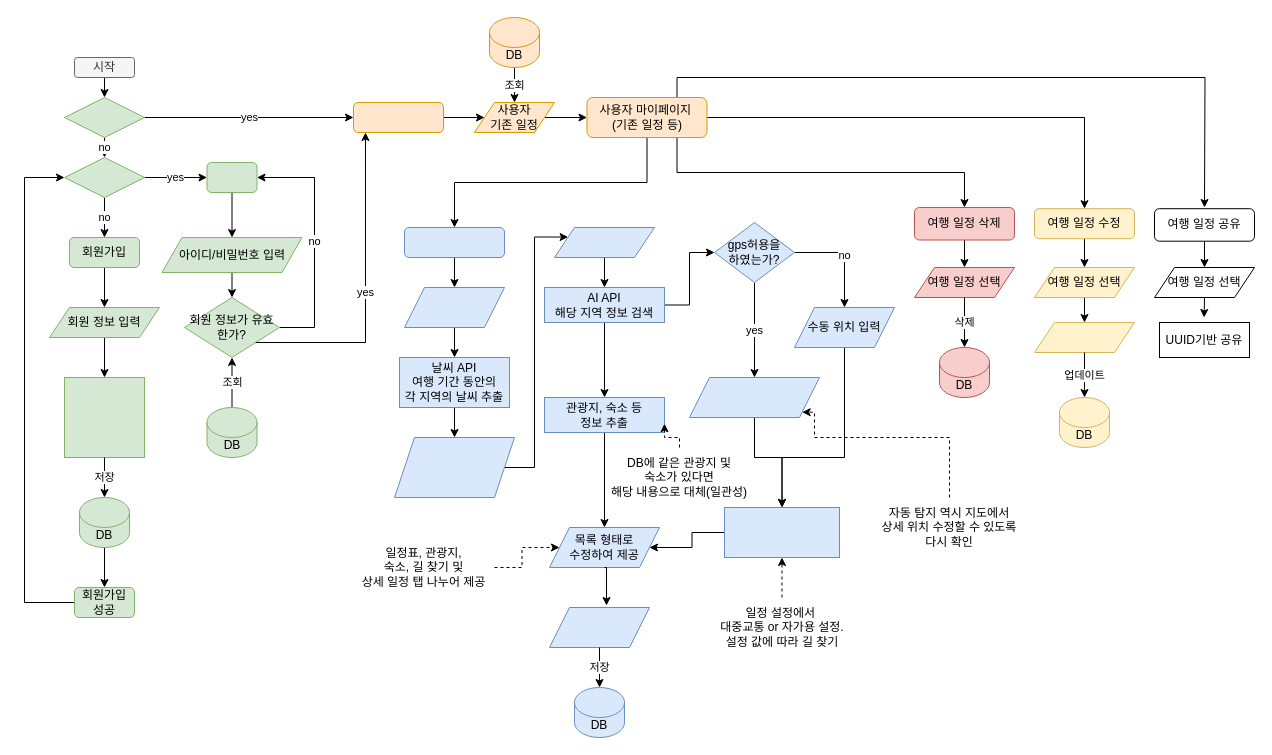
This 1272x755 diagram has some shape labels left out. Each missing label, with the centre of its shape:
대중교통 API 출발지-도착지 최적 대중교통 검색: the point at 782,532
로그인: the point at 231,177
로그인이 되어있나?: the point at 104,117
사용자 기존 일정 조회: the point at 398,117
사용자의 수정 및 저장: the point at 599,627
상세 내용 수정: the point at 1084,337
여행 기간 설정: the point at 454,307
여행 일정 생성: the point at 454,242
입력된 정보의 유효성 검사 후, DB에 저장: the point at 104,417
자동 근처 장소 탐지 및 사용자 확인: the point at 754,397
지도 API 에서 각 지역의 날씨에 따라 다른 색상의 pin 생성: the point at 454,467
특정 pin 선택: the point at 604,242
회원인가?: the point at 104,177
